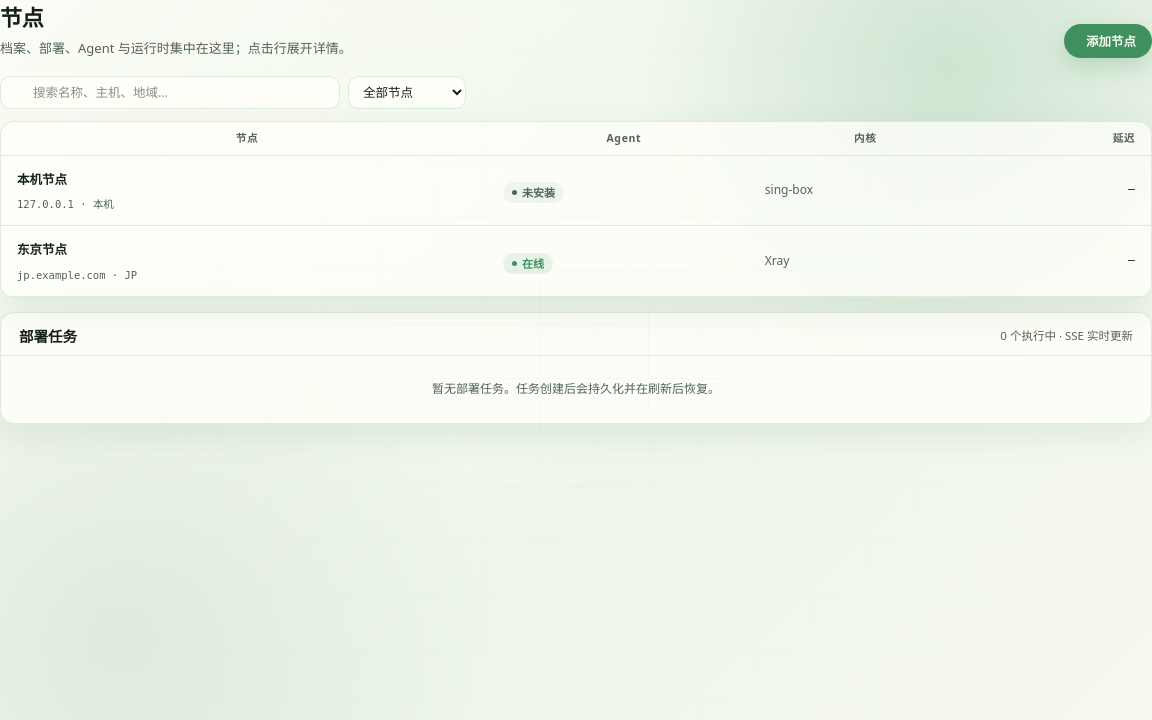
Test case: Default local node display › lists the install-created local node as an ordinary node card
This screenshot has width=1152, height=720.
expect the text "本机节点" is shown: met, box [17,170,67,188]
expect the text "127.0.0.1 · 本机" is shown: met, box [17,198,114,210]
Click the text "东京节点".
click(576, 261)  # box [1,226,1151,296]
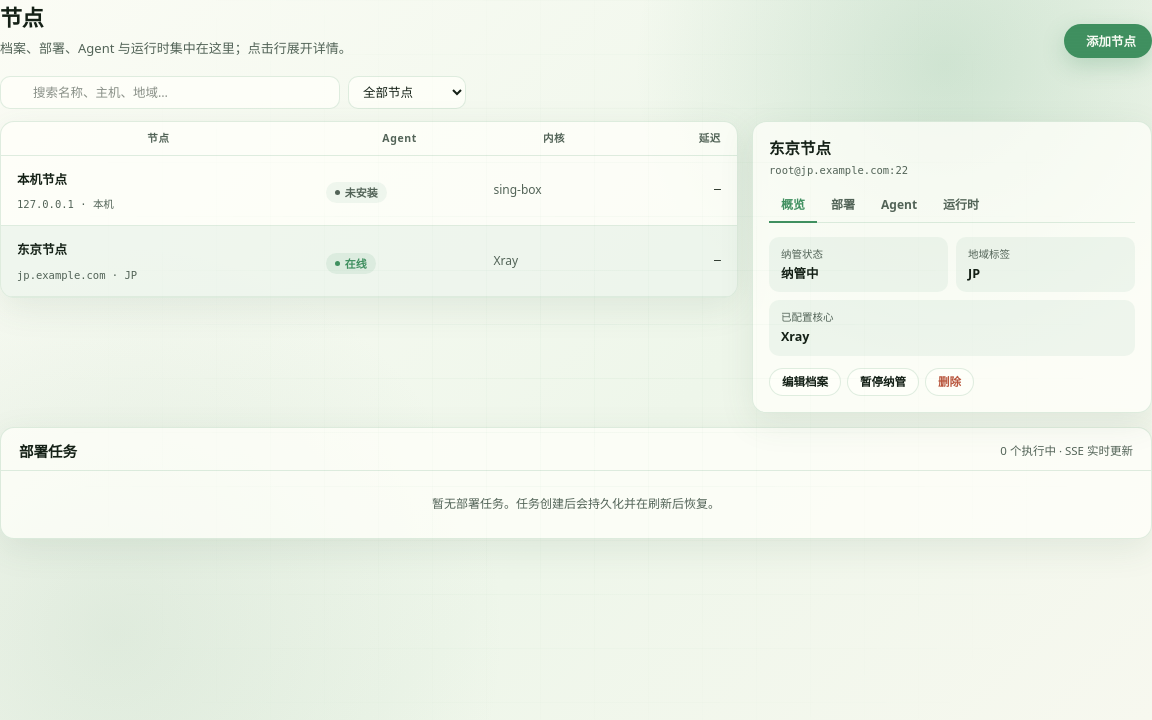
Click the button "Agent".
click(899, 206)  # box [869,190,929,222]
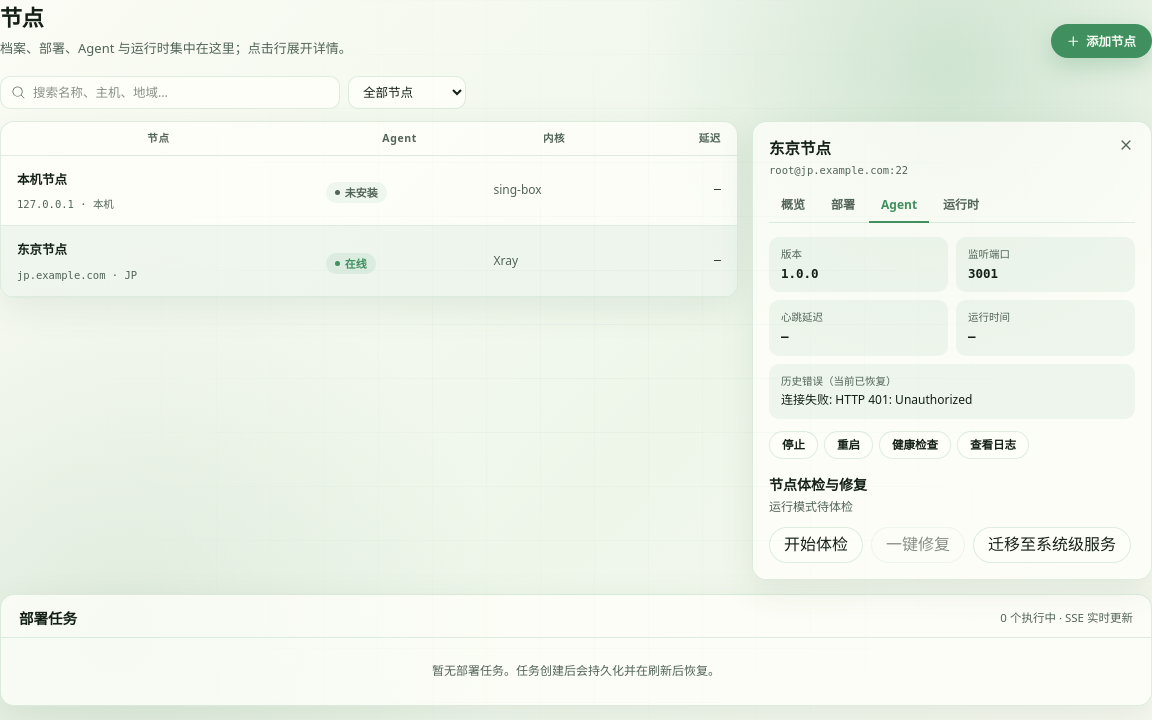
expect the text "历史错误（当前已恢复）" is shown: met, box [781,374,896,388]
